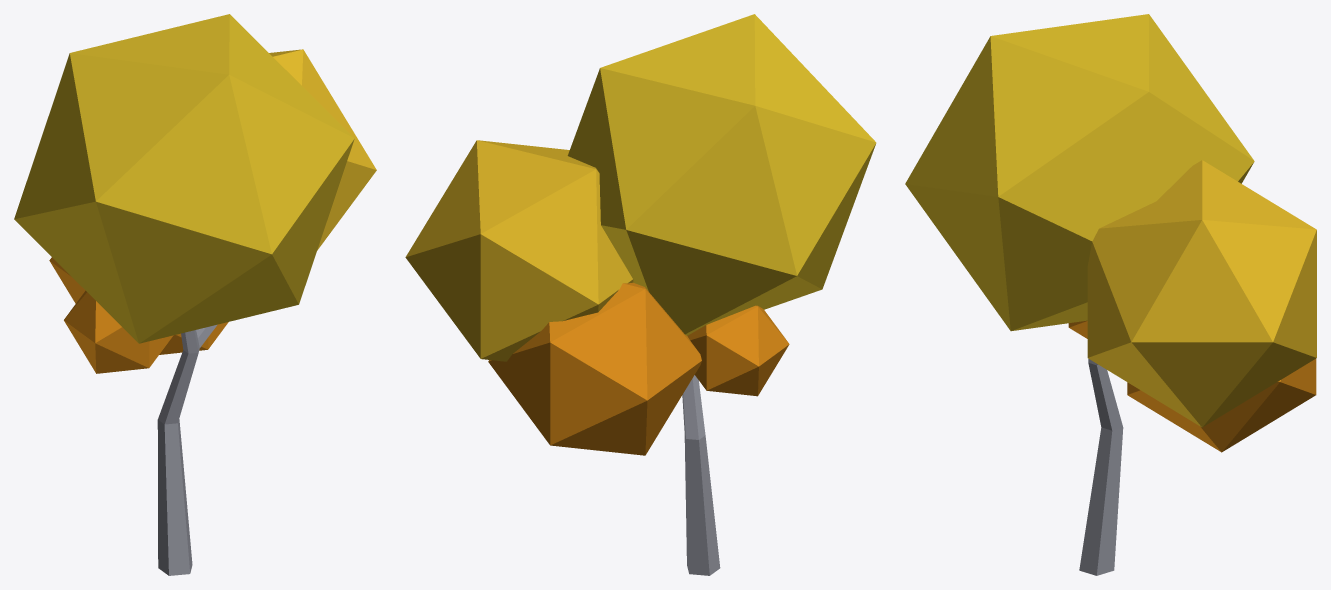
Rendered from tree01.dae.
3 renders of one model, left to right at view 1: azimuth 30°, elevation 25°; view 2: azimuth 150°, elevation 25°; view 3: azimuth 270°, elevation 25°, orthographic. The views are drawn at different scales.
Parts seen in each view (by area): view 1: leaves (×4), bark; view 2: leaves (×4), bark; view 3: leaves (×3), bark.
Part boxes in pixels (bbox=[...]): leaves (×4): bbox=[14, 14, 376, 373]; bark: bbox=[157, 324, 217, 575]; leaves (×4): bbox=[405, 14, 876, 455]; bark: bbox=[682, 375, 720, 575]; leaves (×3): bbox=[905, 14, 1316, 452]; bark: bbox=[1079, 358, 1123, 575].
Bounding box in the file's own units: 678 × 993 × 697.
1 material, 1 textured.
